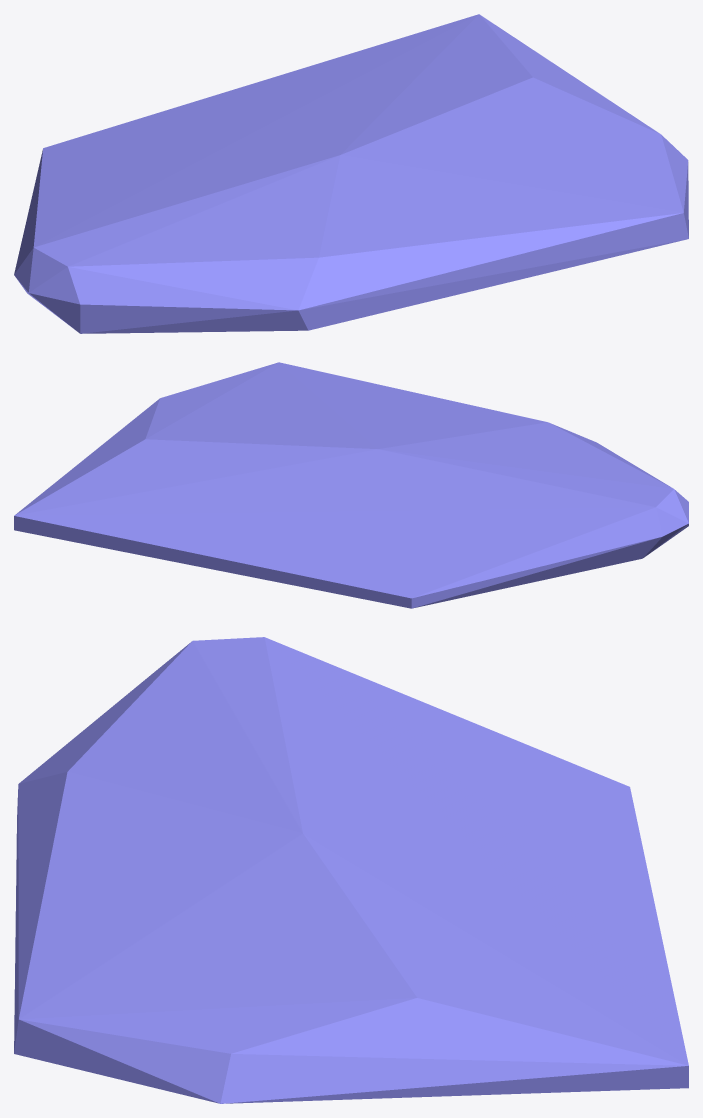
The model's file is Plate_13_Collider_01.FBX.
3 renders of one model, top to bottom at view 1: azimuth 30°, elevation 25°; view 2: azimuth 150°, elevation 25°; view 3: azimuth 270°, elevation 25°, orthographic. The views are drawn at different scales.
Parts seen in each view (by area): view 1: COLLIDER1; view 2: COLLIDER1; view 3: COLLIDER1.
Boxes of the visible parts, bbox=[...] form: COLLIDER1: bbox=[14, 14, 688, 333]; COLLIDER1: bbox=[14, 362, 688, 608]; COLLIDER1: bbox=[14, 637, 688, 1103].
Size of the model in its own units: 263 by 22.21 by 183.
